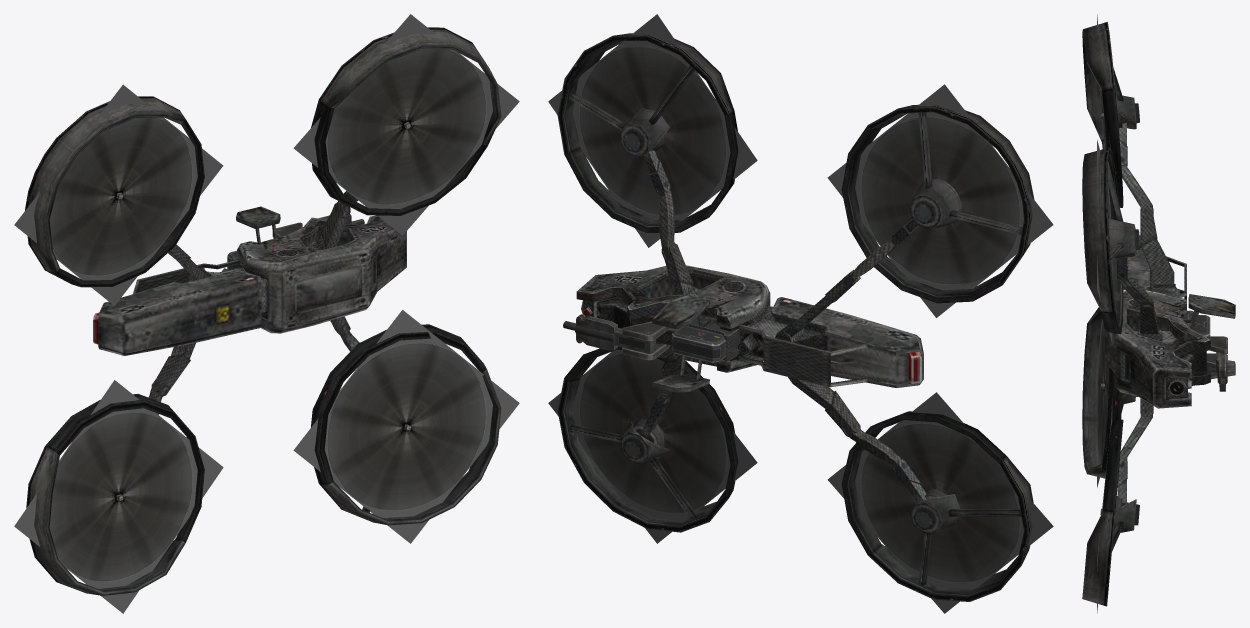
File: veh_t6_drone_quad_rotor_mp_alt_LOD2.obj
3 renders of one model, left to right at view 1: azimuth 30°, elevation 25°; view 2: azimuth 150°, elevation 25°; view 3: azimuth 270°, elevation 25°, orthographic. The views are drawn at different scales.
Parts seen in each view (by area): view 1: mtl_t6_veh_drone_quad_rotor_blades, mtl_t6_veh_drone_quad_rotor_body2; view 2: mtl_t6_veh_drone_quad_rotor_blades, mtl_t6_veh_drone_quad_rotor_body2, mtl_t6_veh_drone_quad_rotor_gun; view 3: mtl_t6_veh_drone_quad_rotor_body2, mtl_t6_veh_drone_quad_rotor_blades, mtl_t6_veh_drone_quad_rotor_gun.
Part boxes in pixels (x1,y1,x2,y2): mtl_t6_veh_drone_quad_rotor_blades: (14,14,519,613); mtl_t6_veh_drone_quad_rotor_body2: (25,27,501,595); mtl_t6_veh_drone_quad_rotor_blades: (548,14,1053,613); mtl_t6_veh_drone_quad_rotor_body2: (557,33,1034,601); mtl_t6_veh_drone_quad_rotor_gun: (563,314,739,363); mtl_t6_veh_drone_quad_rotor_body2: (1082,22,1235,606); mtl_t6_veh_drone_quad_rotor_blades: (1097,14,1112,613); mtl_t6_veh_drone_quad_rotor_gun: (1181,310,1227,391).
Size of the model in its own units: 100 by 100 by 29.38.
